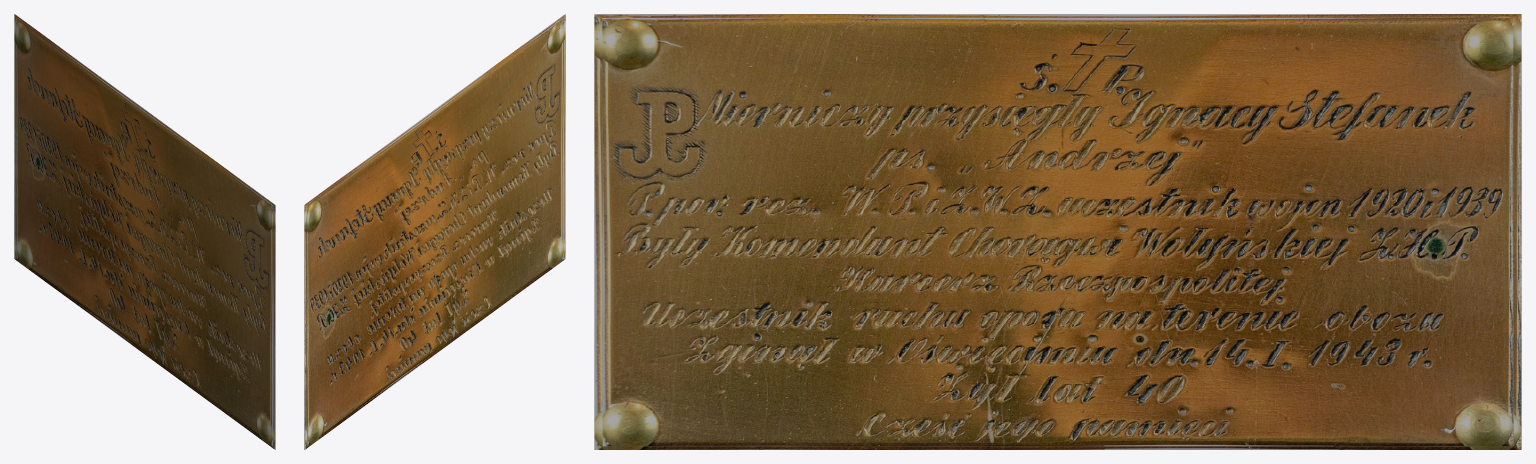
The model's file is 11. mierniczy przysięgły IGNACY STEFANEK.glb.
The picture shows the model from 3 angles, left to right: view 1: azimuth 30°, elevation 25°; view 2: azimuth 150°, elevation 25°; view 3: azimuth 270°, elevation 25°; orthographic projection. The views are drawn at different scales.
Visible parts, largest first — view 1: Plane; view 2: Plane; view 3: Plane.
Boxes of the visible parts, left/top/right/bottom form: Plane: left=14, top=14, right=275, bottom=449; Plane: left=304, top=14, right=565, bottom=449; Plane: left=594, top=14, right=1521, bottom=449.
Size of the model in its own units: 0.0246 by 7 by 13.5.
Materials: 1 (1 with a texture image).
